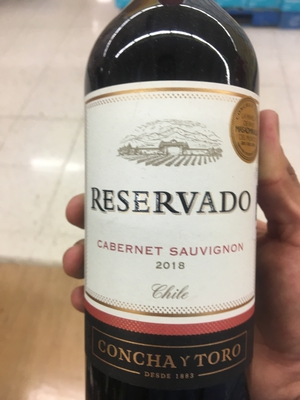reservado cabernet sauvignon: (77, 4, 263, 400)
